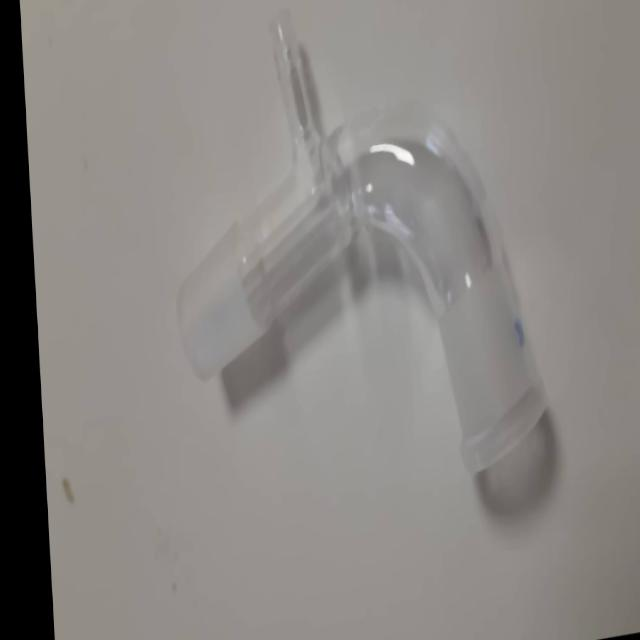Angled Extension for Vacuum Distillation: (154, 0, 572, 535)
